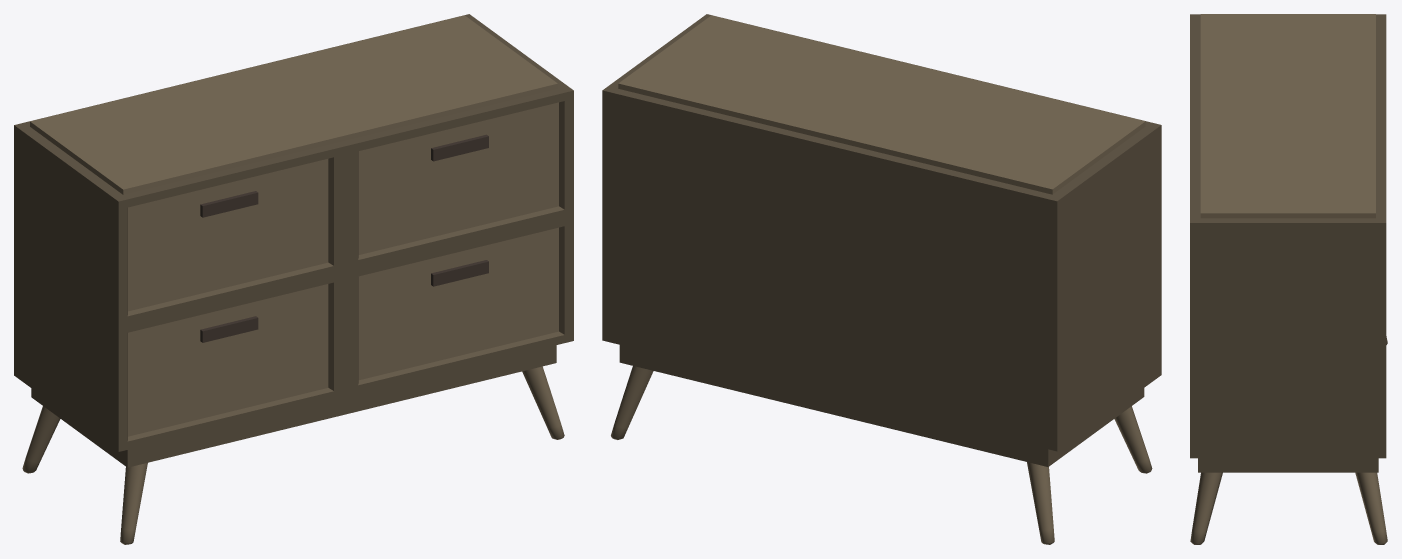
File: drawer_4.glb
3 views of the same model, side by side, from view 1: azimuth 30°, elevation 25°; view 2: azimuth 150°, elevation 25°; view 3: azimuth 270°, elevation 25° (orthographic). The views are drawn at different scales.
Visible parts, largest first — view 1: Drawer_4; view 2: Drawer_4; view 3: Drawer_4.
Boxes of the visible parts, <box> form: Drawer_4: <box>14,14,573,544</box>; Drawer_4: <box>602,14,1161,544</box>; Drawer_4: <box>1190,14,1387,544</box>.
Size of the model in its own units: 2.79 by 2.07 by 1.12.
